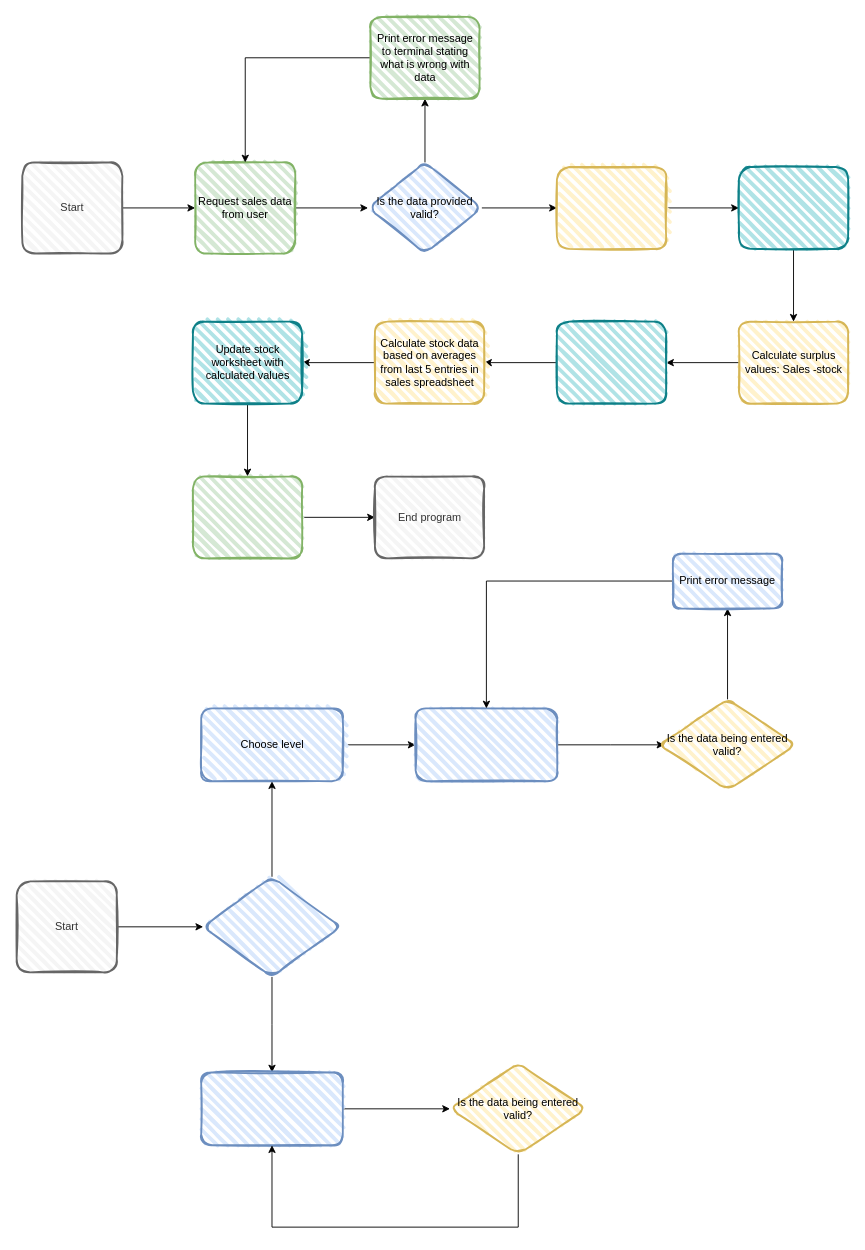
Image size: 865x1250. Some labels were removed from this diagram. Each missing label, with the box of its shape:
Enter puzzle to be solved: (200, 1071, 343, 1146)
Enter row and column: (414, 707, 558, 782)
Pair stock calculations with original sandwich types and print data to terminal: (192, 475, 303, 559)
Parse sales data info correct format for worksheet: (556, 166, 667, 249)
Play game / Get a solution: (202, 875, 341, 977)
Update sales worksheet with sales data: (738, 166, 849, 249)
Update surplus worksheet with calculated values: (556, 320, 667, 404)
